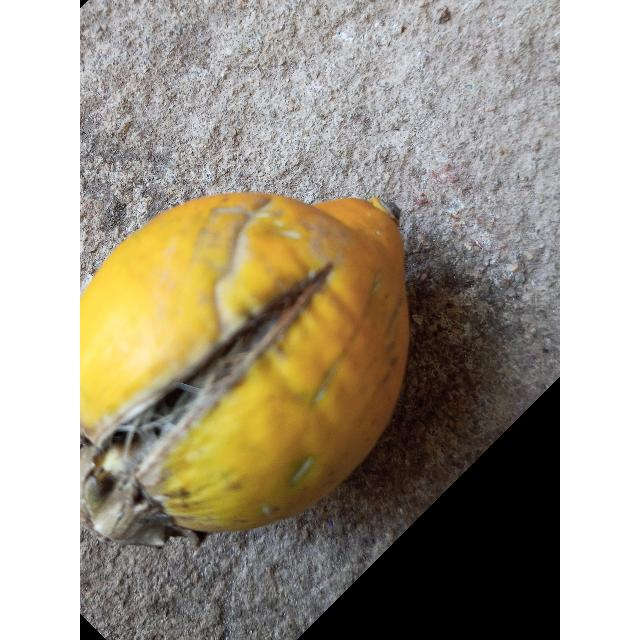damaged: (80, 193, 409, 547)
